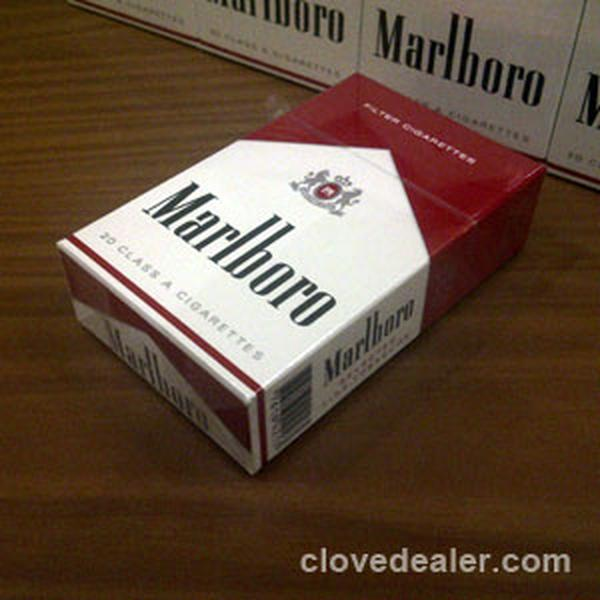marlboro_red: (109, 104, 477, 342)
